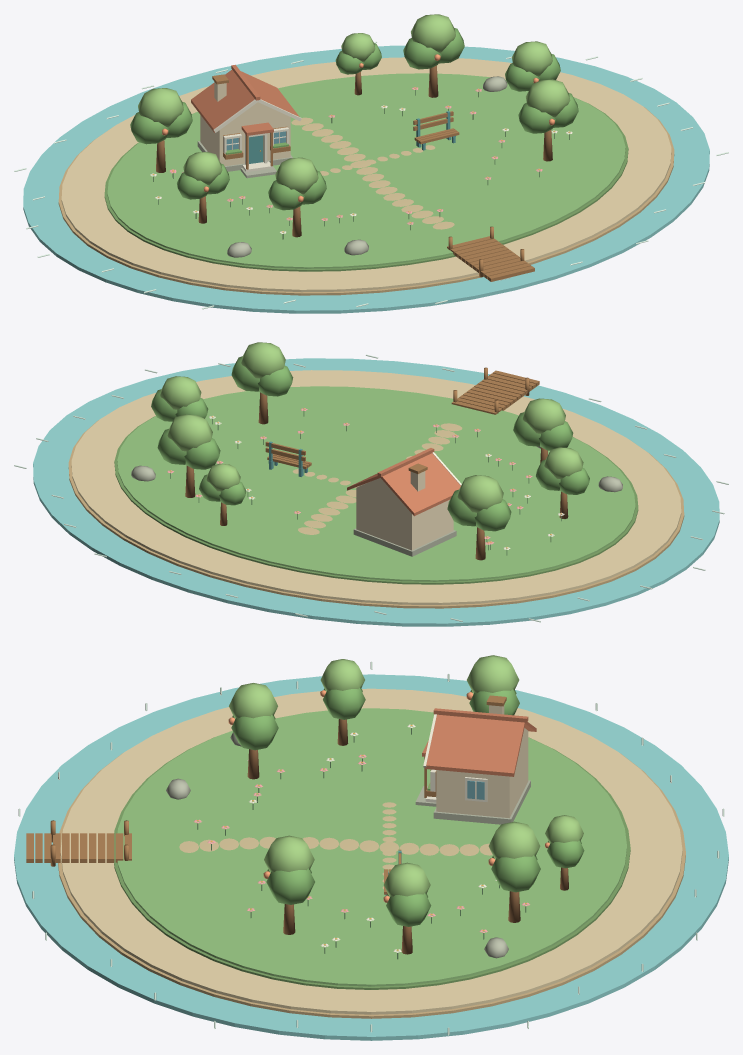
The model's file is island.glb.
3 renders of one model, top to bottom at view 1: azimuth 30°, elevation 25°; view 2: azimuth 150°, elevation 25°; view 3: azimuth 270°, elevation 25°, orthographic. The views are drawn at different scales.
Parts seen in each view (by area): view 1: meadow, shallows, beach, shore, grass bank, thick roof slab, cottage, pear canopy.014, pear canopy.017, pear canopy.008, pear canopy.002, pear canopy.011 (+11 smaller); view 2: meadow, shallows, beach, cottage, shore, grass bank, thick roof slab, pear canopy.014, pear canopy.017, pear canopy.008, pear canopy.002, pear canopy.011 (+14 smaller); view 3: meadow, shallows, beach, thick roof slab.001, shore, cottage, grass bank, pear canopy.014, pear canopy.017, pear canopy.008, pear canopy.016, pear canopy.002 (+11 smaller).
Boxes of the visible parts, left/top/right/bottom form: meadow: left=107, top=73, right=625, bottom=268; shallows: left=23, top=45, right=709, bottom=313; beach: left=61, top=57, right=671, bottom=292; shore: left=58, top=107, right=674, bottom=295; grass bank: left=104, top=98, right=628, bottom=271; thick roof slab: left=191, top=70, right=254, bottom=132; cottage: left=200, top=115, right=290, bottom=166; pear canopy.014: left=138, top=88, right=183, bottom=126; pear canopy.017: left=411, top=14, right=455, bottom=52; pear canopy.008: left=526, top=79, right=570, bottom=117; pear canopy.002: left=275, top=157, right=318, bottom=194; pear canopy.011: left=511, top=41, right=552, bottom=76; meadow: left=117, top=386, right=635, bottom=581; shallows: left=33, top=358, right=719, bottom=626; beach: left=71, top=370, right=681, bottom=604; cottage: left=356, top=486, right=453, bottom=550; shore: left=68, top=420, right=684, bottom=608; grass bank: left=114, top=416, right=638, bottom=584; thick roof slab: left=380, top=453, right=460, bottom=516; pear canopy.014: left=457, top=475, right=503, bottom=512; pear canopy.017: left=167, top=414, right=212, bottom=451; pear canopy.008: left=241, top=342, right=285, bottom=378; pear canopy.002: left=523, top=398, right=565, bottom=433; pear canopy.011: left=160, top=376, right=201, bottom=409; meadow: left=117, top=708, right=626, bottom=986; shallows: left=14, top=674, right=728, bottom=1040; beach: left=60, top=688, right=682, bottom=1014; thick roof slab.001: left=425, top=714, right=525, bottom=776; shore: left=58, top=753, right=685, bottom=1018; cottage: left=436, top=731, right=528, bottom=818; grass bank: left=114, top=737, right=630, bottom=989; pear canopy.014: left=466, top=655, right=519, bottom=693; pear canopy.017: left=488, top=821, right=540, bottom=859; pear canopy.008: left=264, top=835, right=314, bottom=872; pear canopy.016: left=491, top=855, right=540, bottom=892; pear canopy.002: left=229, top=683, right=277, bottom=718.
Size of what is drawn, in the model's own units: 24.73 by 3.44 by 20.
